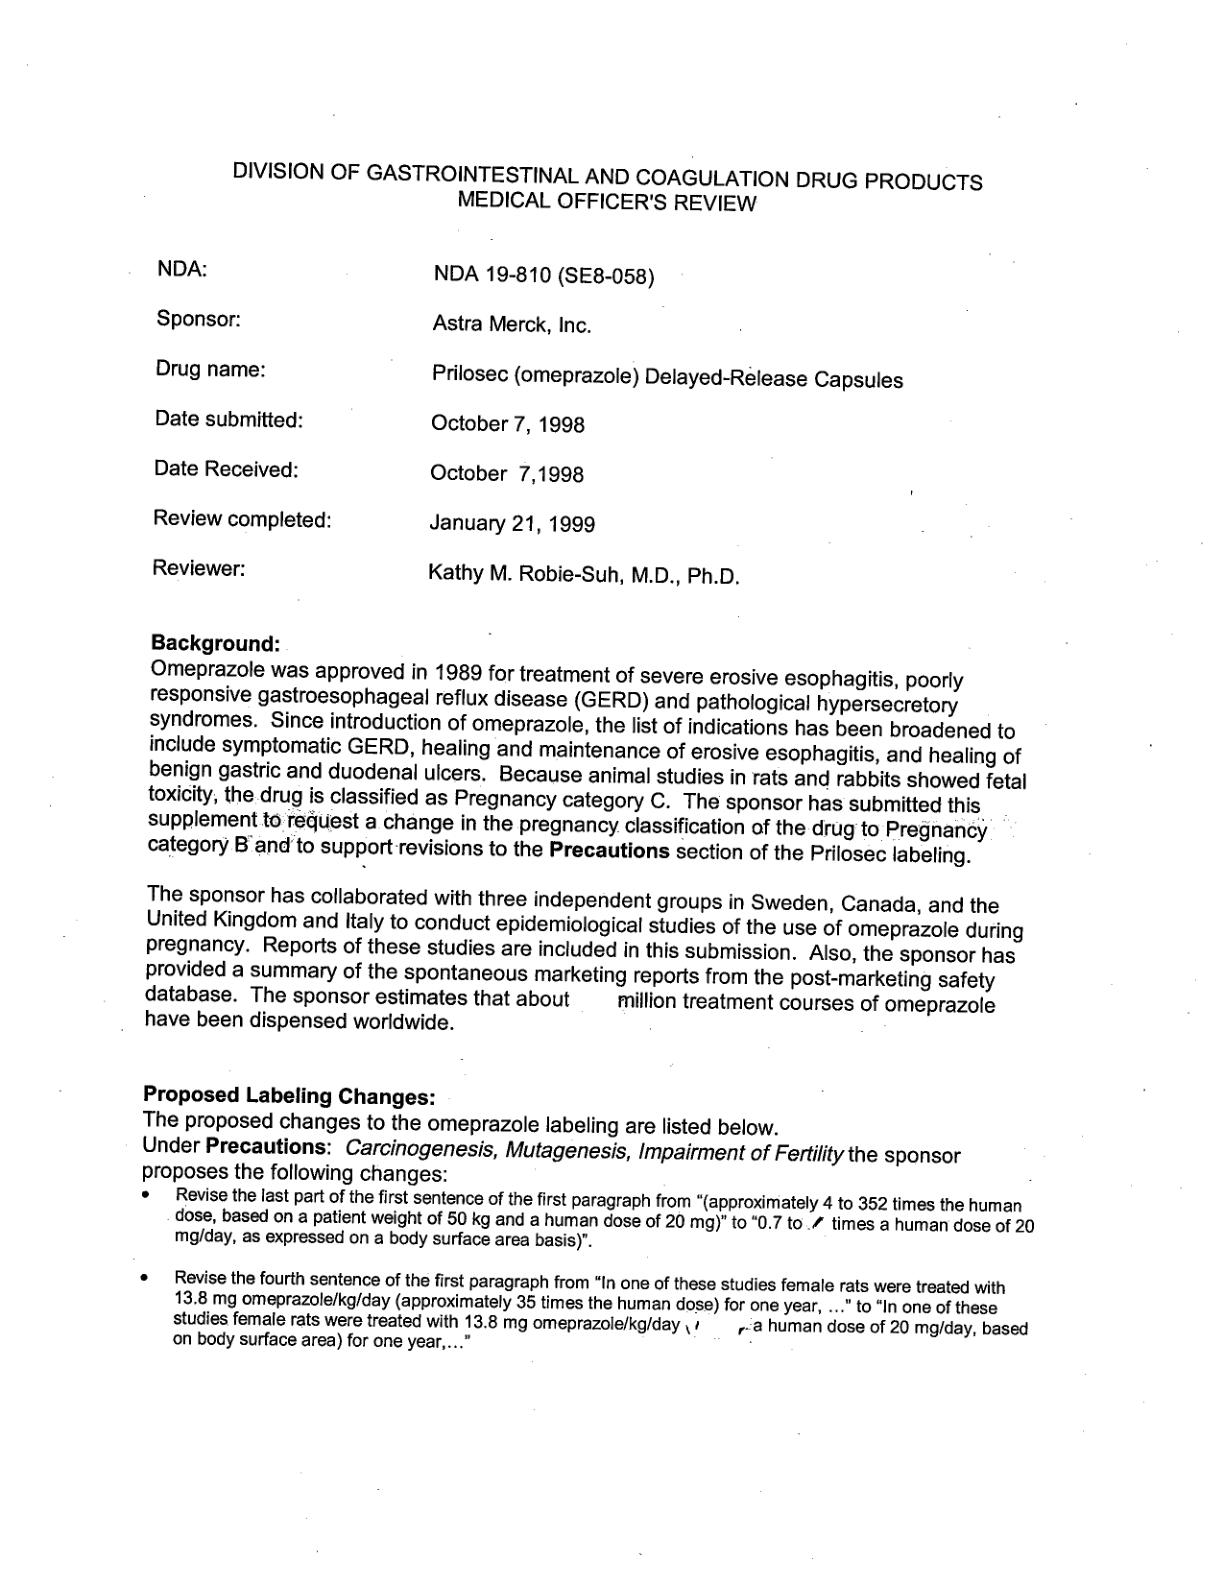nolines: (150, 252, 905, 586)
